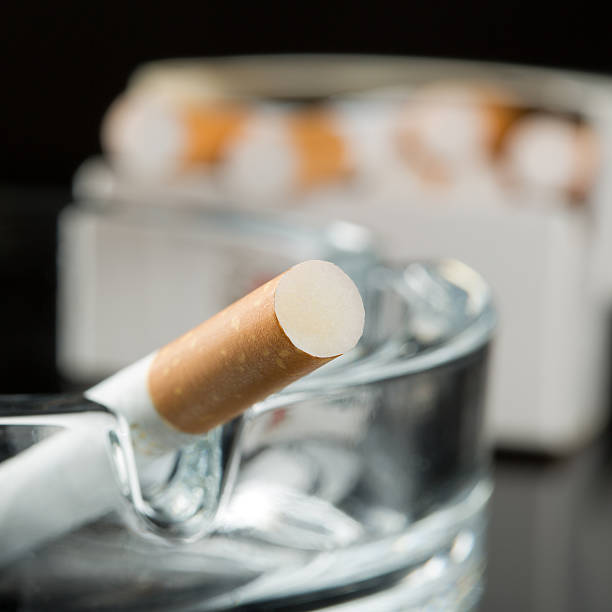cigarette: (84, 257, 370, 472)
